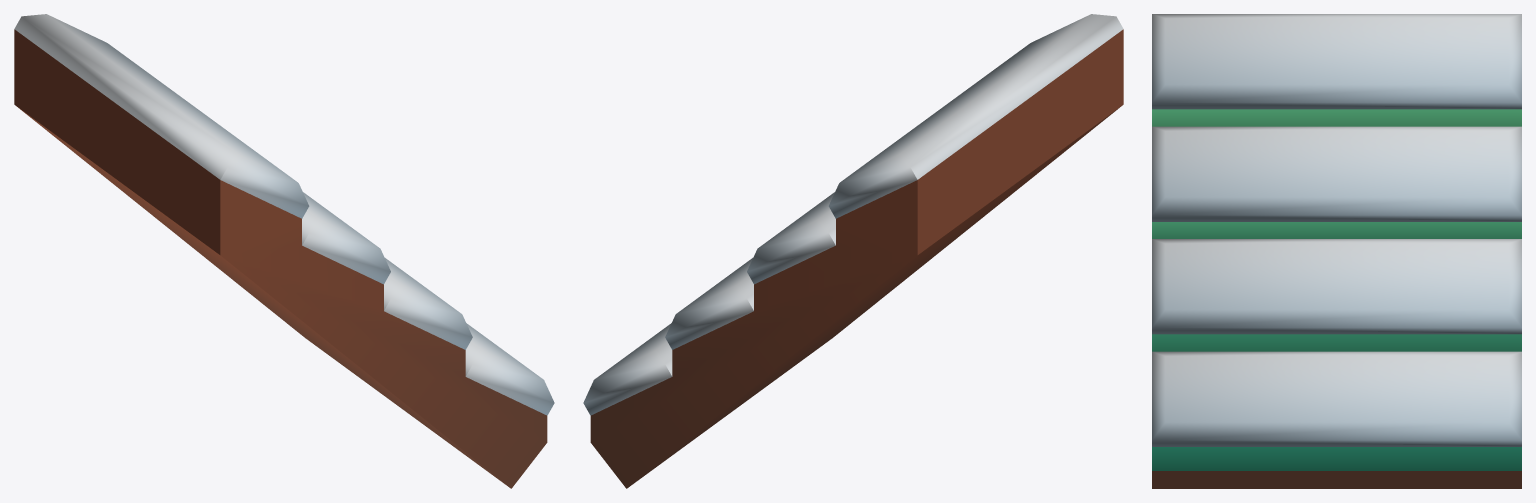
Rendered from cabin-roof-snow.glb.
3 renders of one model, left to right at view 1: azimuth 30°, elevation 25°; view 2: azimuth 150°, elevation 25°; view 3: azimuth 270°, elevation 25°, orthographic. The views are drawn at different scales.
Parts seen in each view (by area): view 1: cabin-roof-snow; view 2: cabin-roof-snow; view 3: cabin-roof-snow.
Part boxes in pixels (left/top/right/bottom): cabin-roof-snow: left=14, top=14, right=554, bottom=488; cabin-roof-snow: left=583, top=14, right=1123, bottom=488; cabin-roof-snow: left=1152, top=14, right=1521, bottom=488.
Size of the model in its own units: 1.31 by 1.48 by 1.4.
